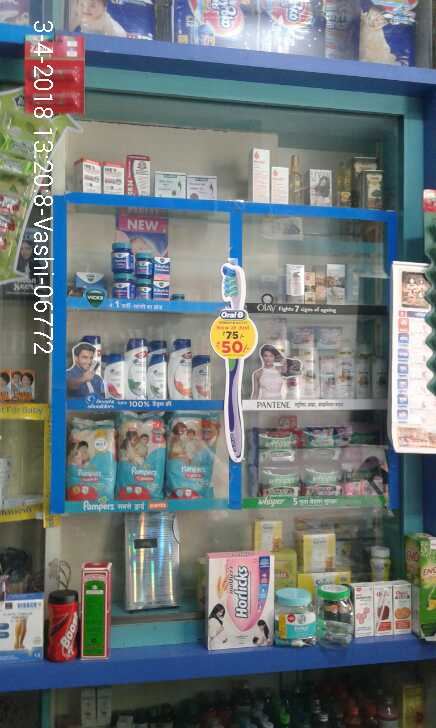vicks: (111, 243, 171, 301)
